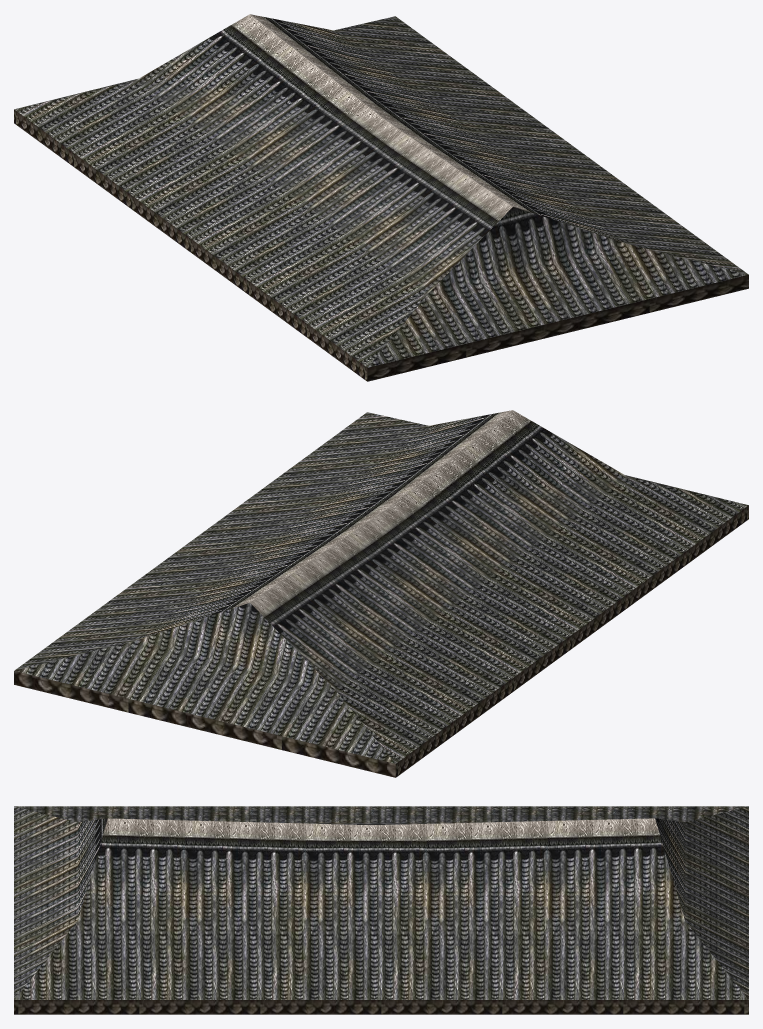
The model's file is rrrr.obj.
The picture shows the model from 3 angles, top to bottom: view 1: azimuth 30°, elevation 25°; view 2: azimuth 150°, elevation 25°; view 3: azimuth 270°, elevation 25°; orthographic projection. The views are drawn at different scales.
Parts seen in each view (by area): view 1: rrrr; view 2: rrrr; view 3: rrrr.
Part boxes in pixels (bbox=[...]): rrrr: bbox=[14, 14, 748, 381]; rrrr: bbox=[14, 410, 748, 777]; rrrr: bbox=[14, 806, 748, 1014].
Bounding box in the file's own units: 340 × 81.27 × 545.
